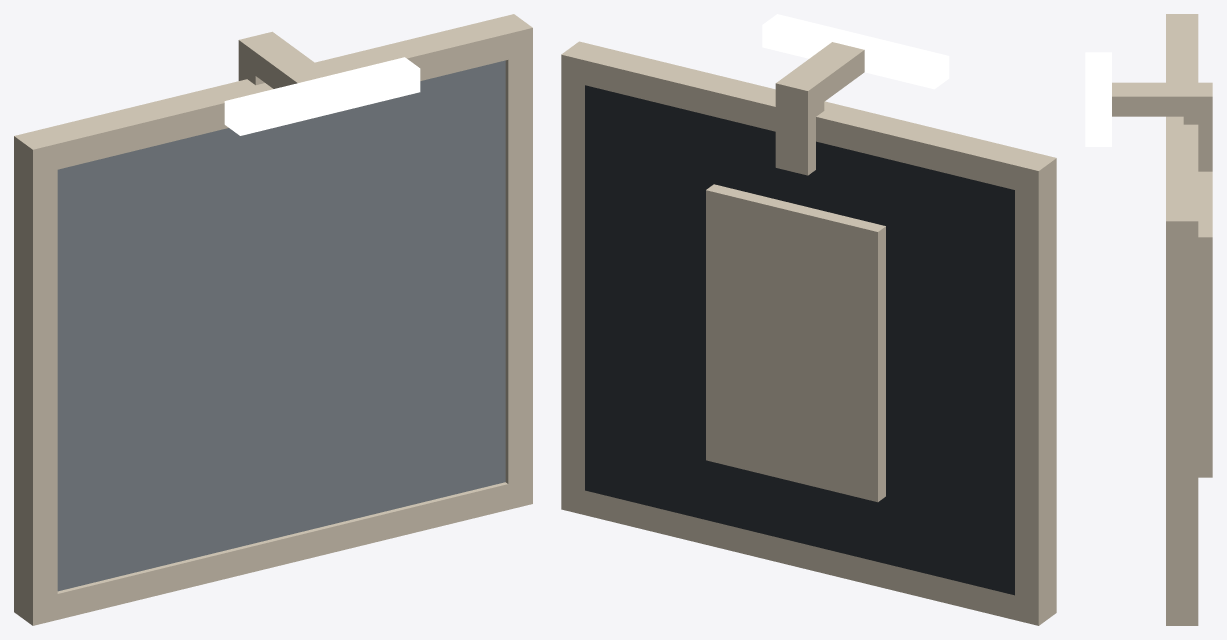
The model's file is lit-frame.glb.
3 renders of one model, left to right at view 1: azimuth 30°, elevation 25°; view 2: azimuth 150°, elevation 25°; view 3: azimuth 270°, elevation 25°, orthographic. The views are drawn at different scales.
Parts seen in each view (by area): view 1: makeup-face-center, makeup-frame-center, makeup-lamp, makeup-lamp-arm; view 2: makeup-back-center, makeup-frame-center, makeup-wall-mount, makeup-lamp, makeup-lamp-arm, makeup-lamp-riser; view 3: makeup-frame-center, makeup-wall-mount, makeup-lamp-arm, makeup-lamp, makeup-lamp-riser.
Part boxes in pixels (<box>): makeup-face-center: <box>57,60,505,591</box>; makeup-frame-center: <box>14,14,532,625</box>; makeup-lamp: <box>224,57,420,135</box>; makeup-lamp-arm: <box>238,31,330,88</box>; makeup-back-center: <box>585,85,1014,595</box>; makeup-frame-center: <box>561,41,1056,625</box>; makeup-wall-mount: <box>706,184,885,502</box>; makeup-lamp: <box>762,14,949,89</box>; makeup-lamp-arm: <box>775,42,864,113</box>; makeup-lamp-riser: <box>775,102,824,175</box>; makeup-frame-center: <box>1166,14,1198,625</box>; makeup-wall-mount: <box>1198,171,1212,477</box>; makeup-lamp-arm: <box>1112,82,1212,116</box>; makeup-lamp: <box>1085,52,1111,146</box>; makeup-lamp-riser: <box>1183,116,1212,171</box>.
Size of the model in its own units: 0.444 by 0.432 by 0.115.
